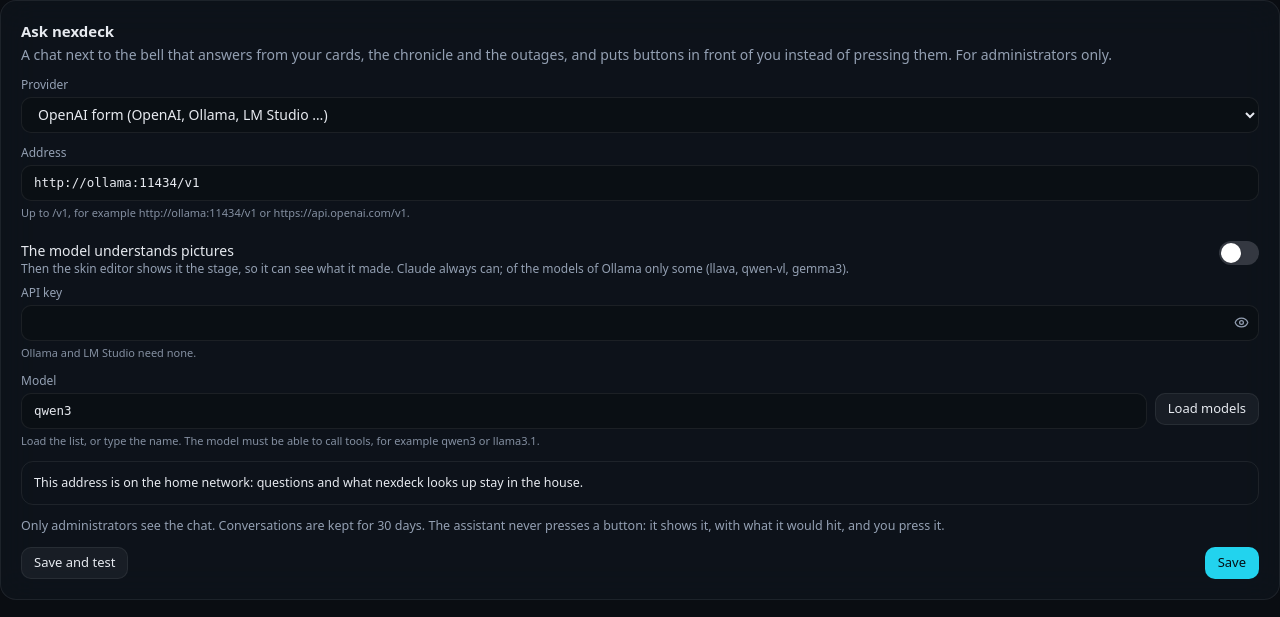
Test: the setting under System › asks for an address for a local runner and says whether it stays home once saved
Check: the text with test id "assistant-where" shows "home network", box [34, 474, 583, 491]
Type "https://api.example.com/v1" into the field showing "http://ollama:11434/v1" at (640, 183), box [21, 165, 1259, 201]
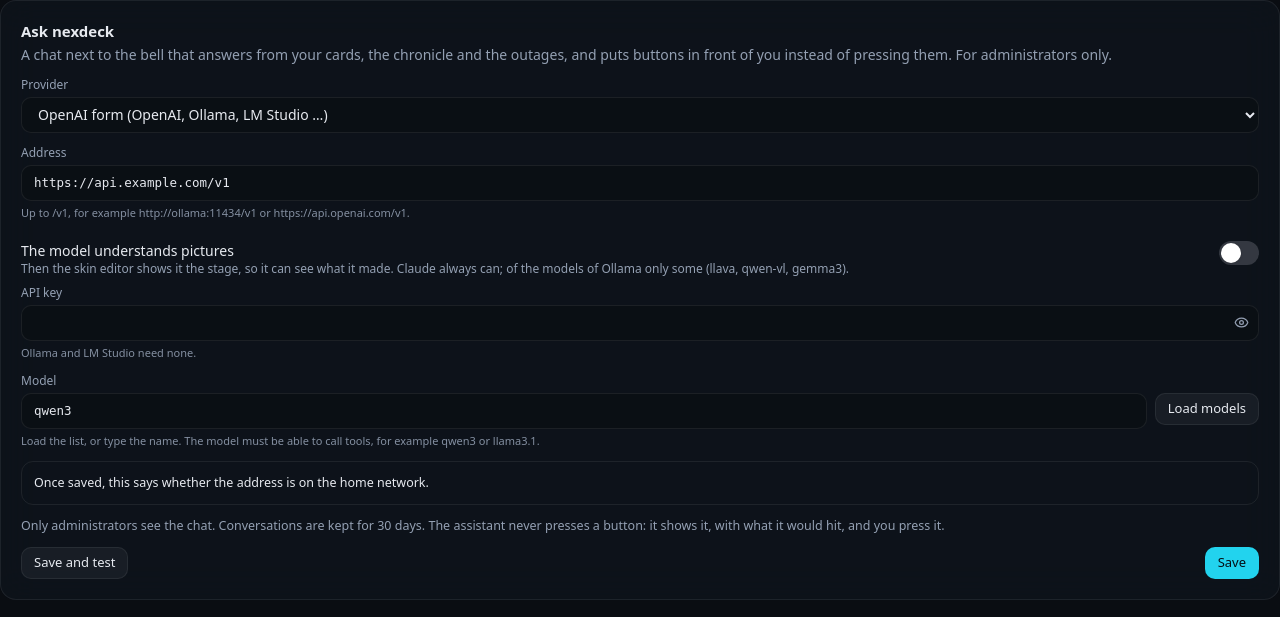
Check: the text with test id "assistant-where" shows "Once saved", box [34, 474, 429, 491]
